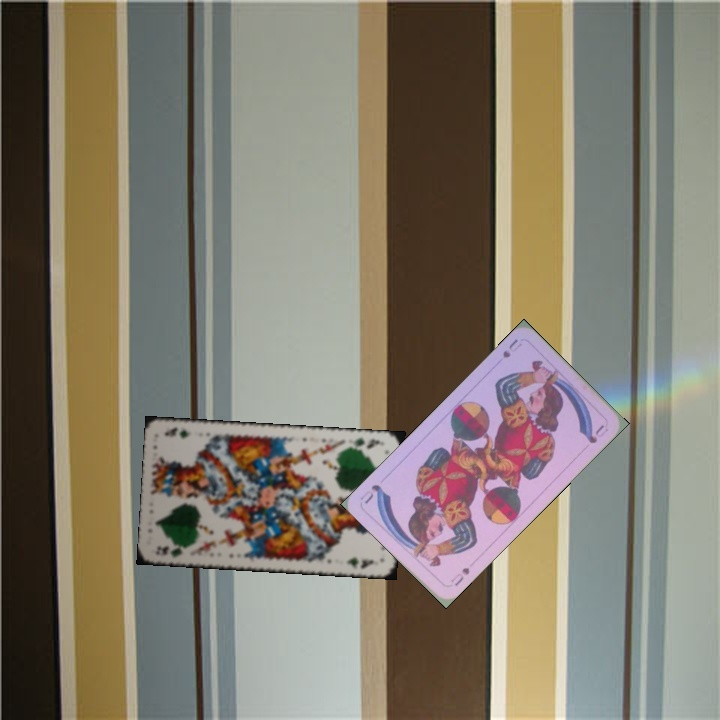GK: (347, 433, 387, 452), (152, 542, 193, 560)
SU: (499, 334, 525, 361), (446, 564, 472, 589)
